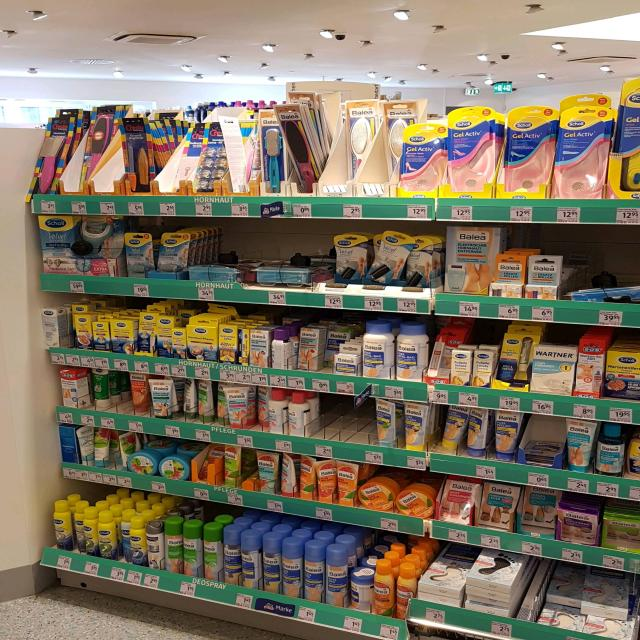void: (321, 397, 371, 447)
